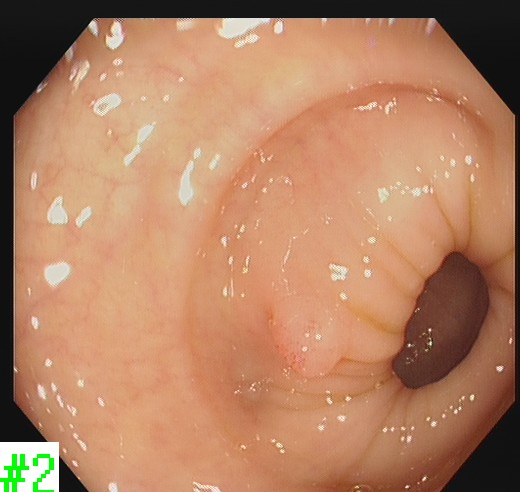adenoma: (265, 290, 354, 380)
